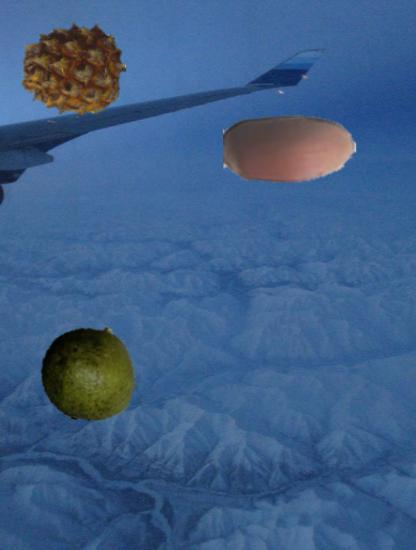Avocado: (40, 324, 138, 422)
Hazelnut: (223, 83, 357, 217)
Pineapple: (19, 16, 127, 124)
